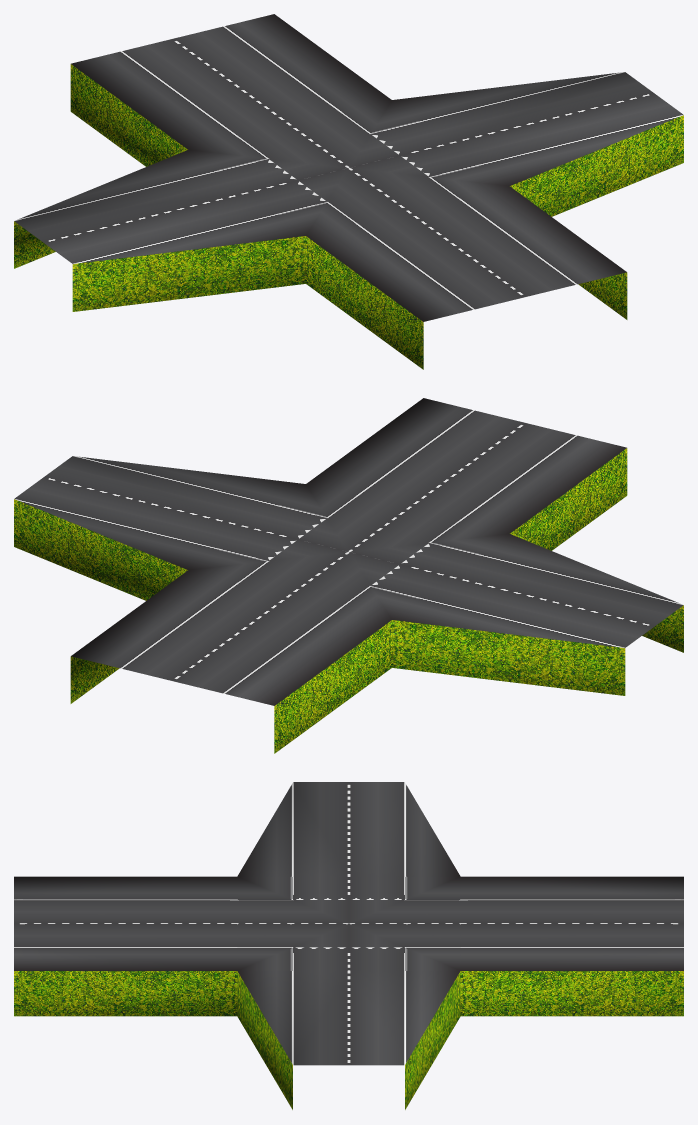
File: kruispunt_weg_1_naar_weg_0.fbx
3 views of the same model, one above another, from view 1: azimuth 30°, elevation 25°; view 2: azimuth 150°, elevation 25°; view 3: azimuth 270°, elevation 25° (orthographic). The views are drawn at different scales.
Visible parts, largest first — view 1: kruispunt_weg_1_zonder_vangrail; view 2: kruispunt_weg_1_zonder_vangrail; view 3: kruispunt_weg_1_zonder_vangrail.
Part boxes in pixels (box(x1,y1,x2,y2)): kruispunt_weg_1_zonder_vangrail: box(14, 14, 683, 369); kruispunt_weg_1_zonder_vangrail: box(14, 398, 683, 753); kruispunt_weg_1_zonder_vangrail: box(14, 782, 683, 1109).
Size of the model in its own units: 3000 by 225 by 3000.
